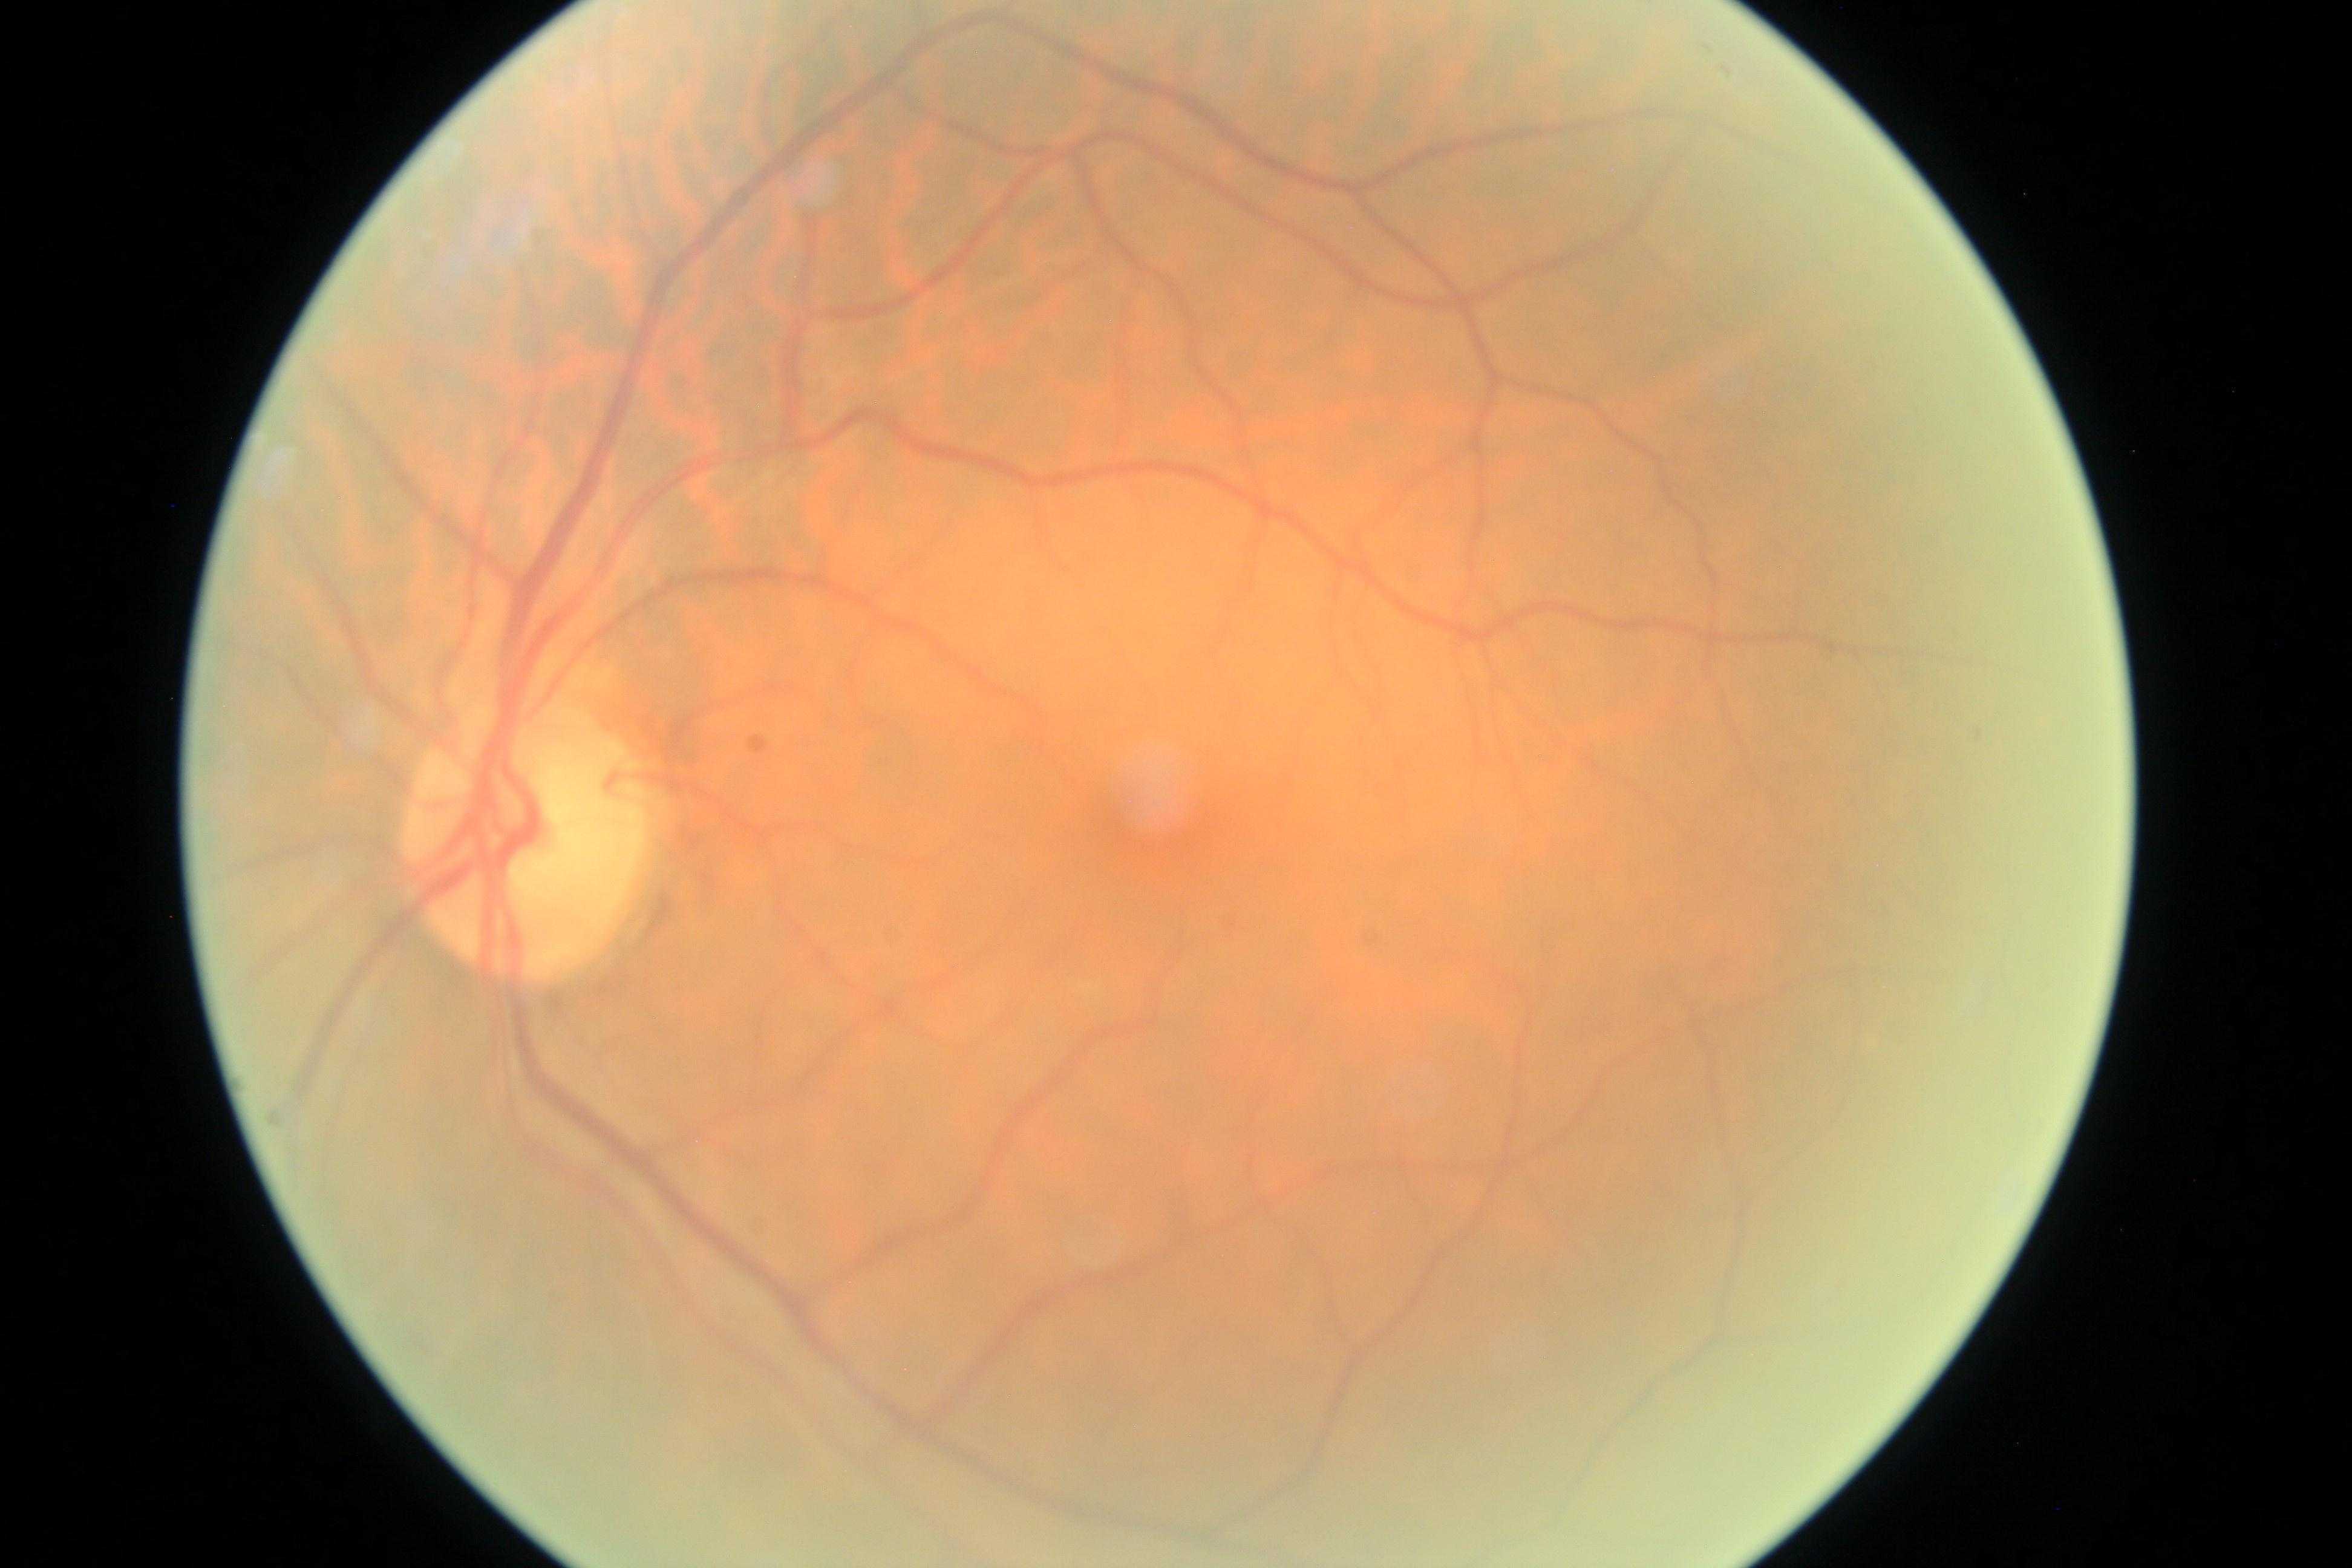Optic-nerve: (381, 706, 667, 990)
macula: (1103, 726, 1228, 835)
